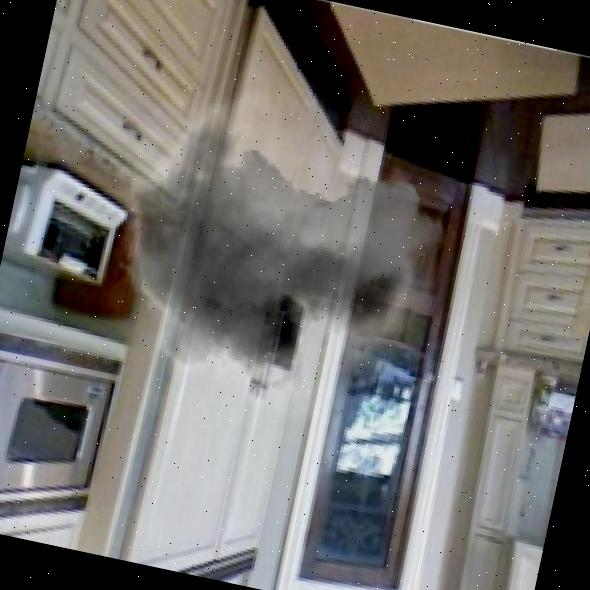smoke: (60, 22, 477, 461)
